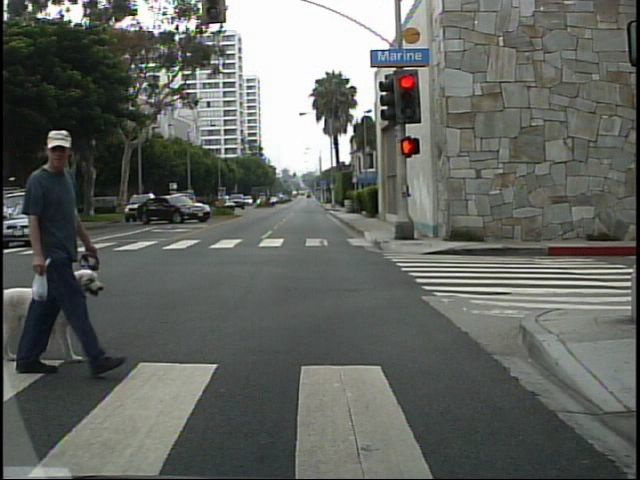person: (12, 114, 117, 382)
